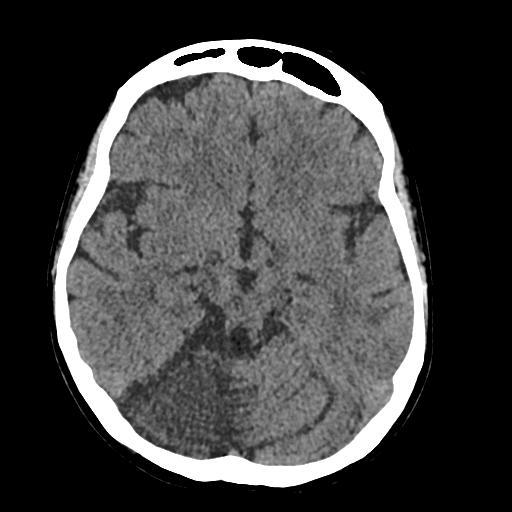Cancer: (140, 345, 252, 445)
